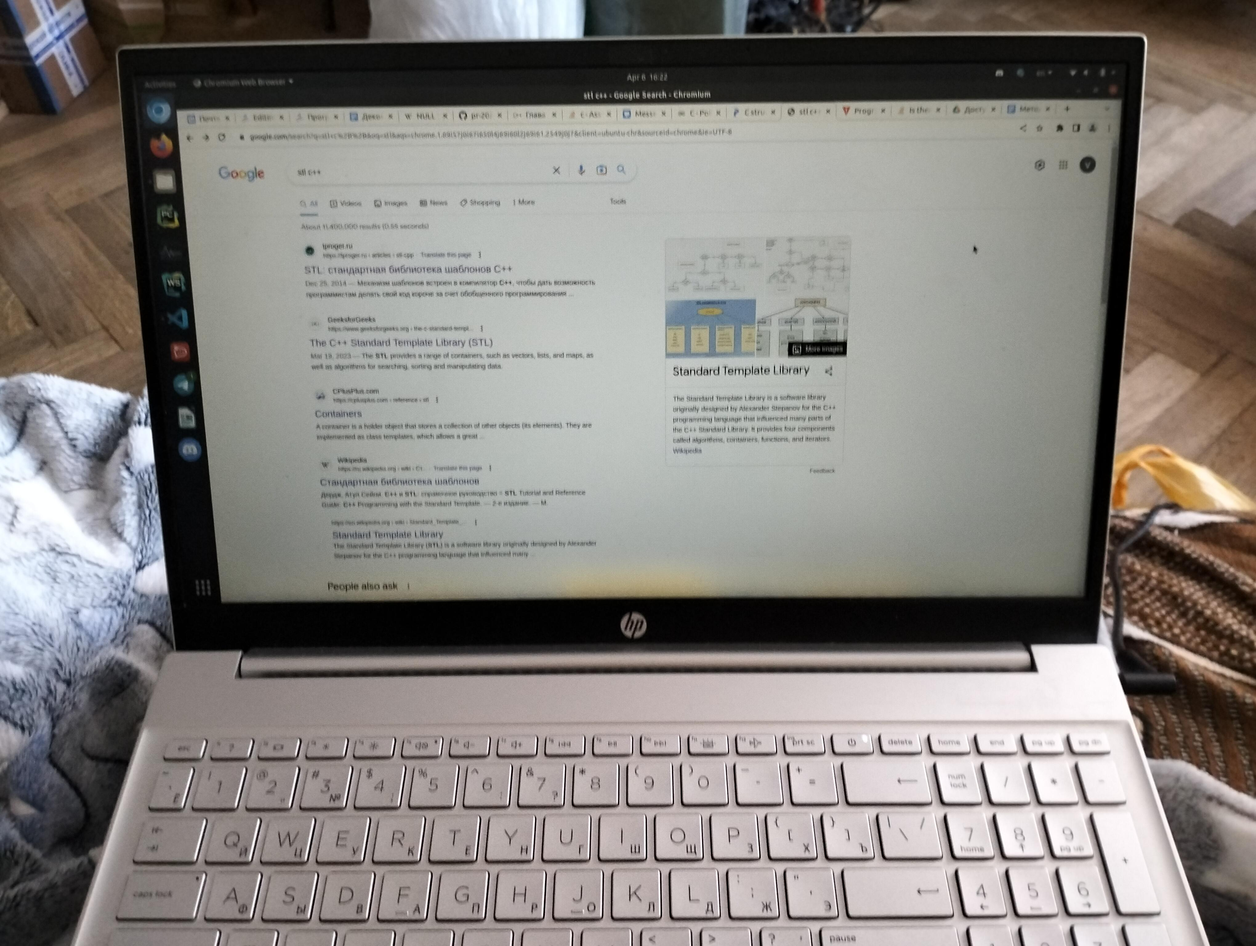monitor: (108, 26, 1151, 654)
